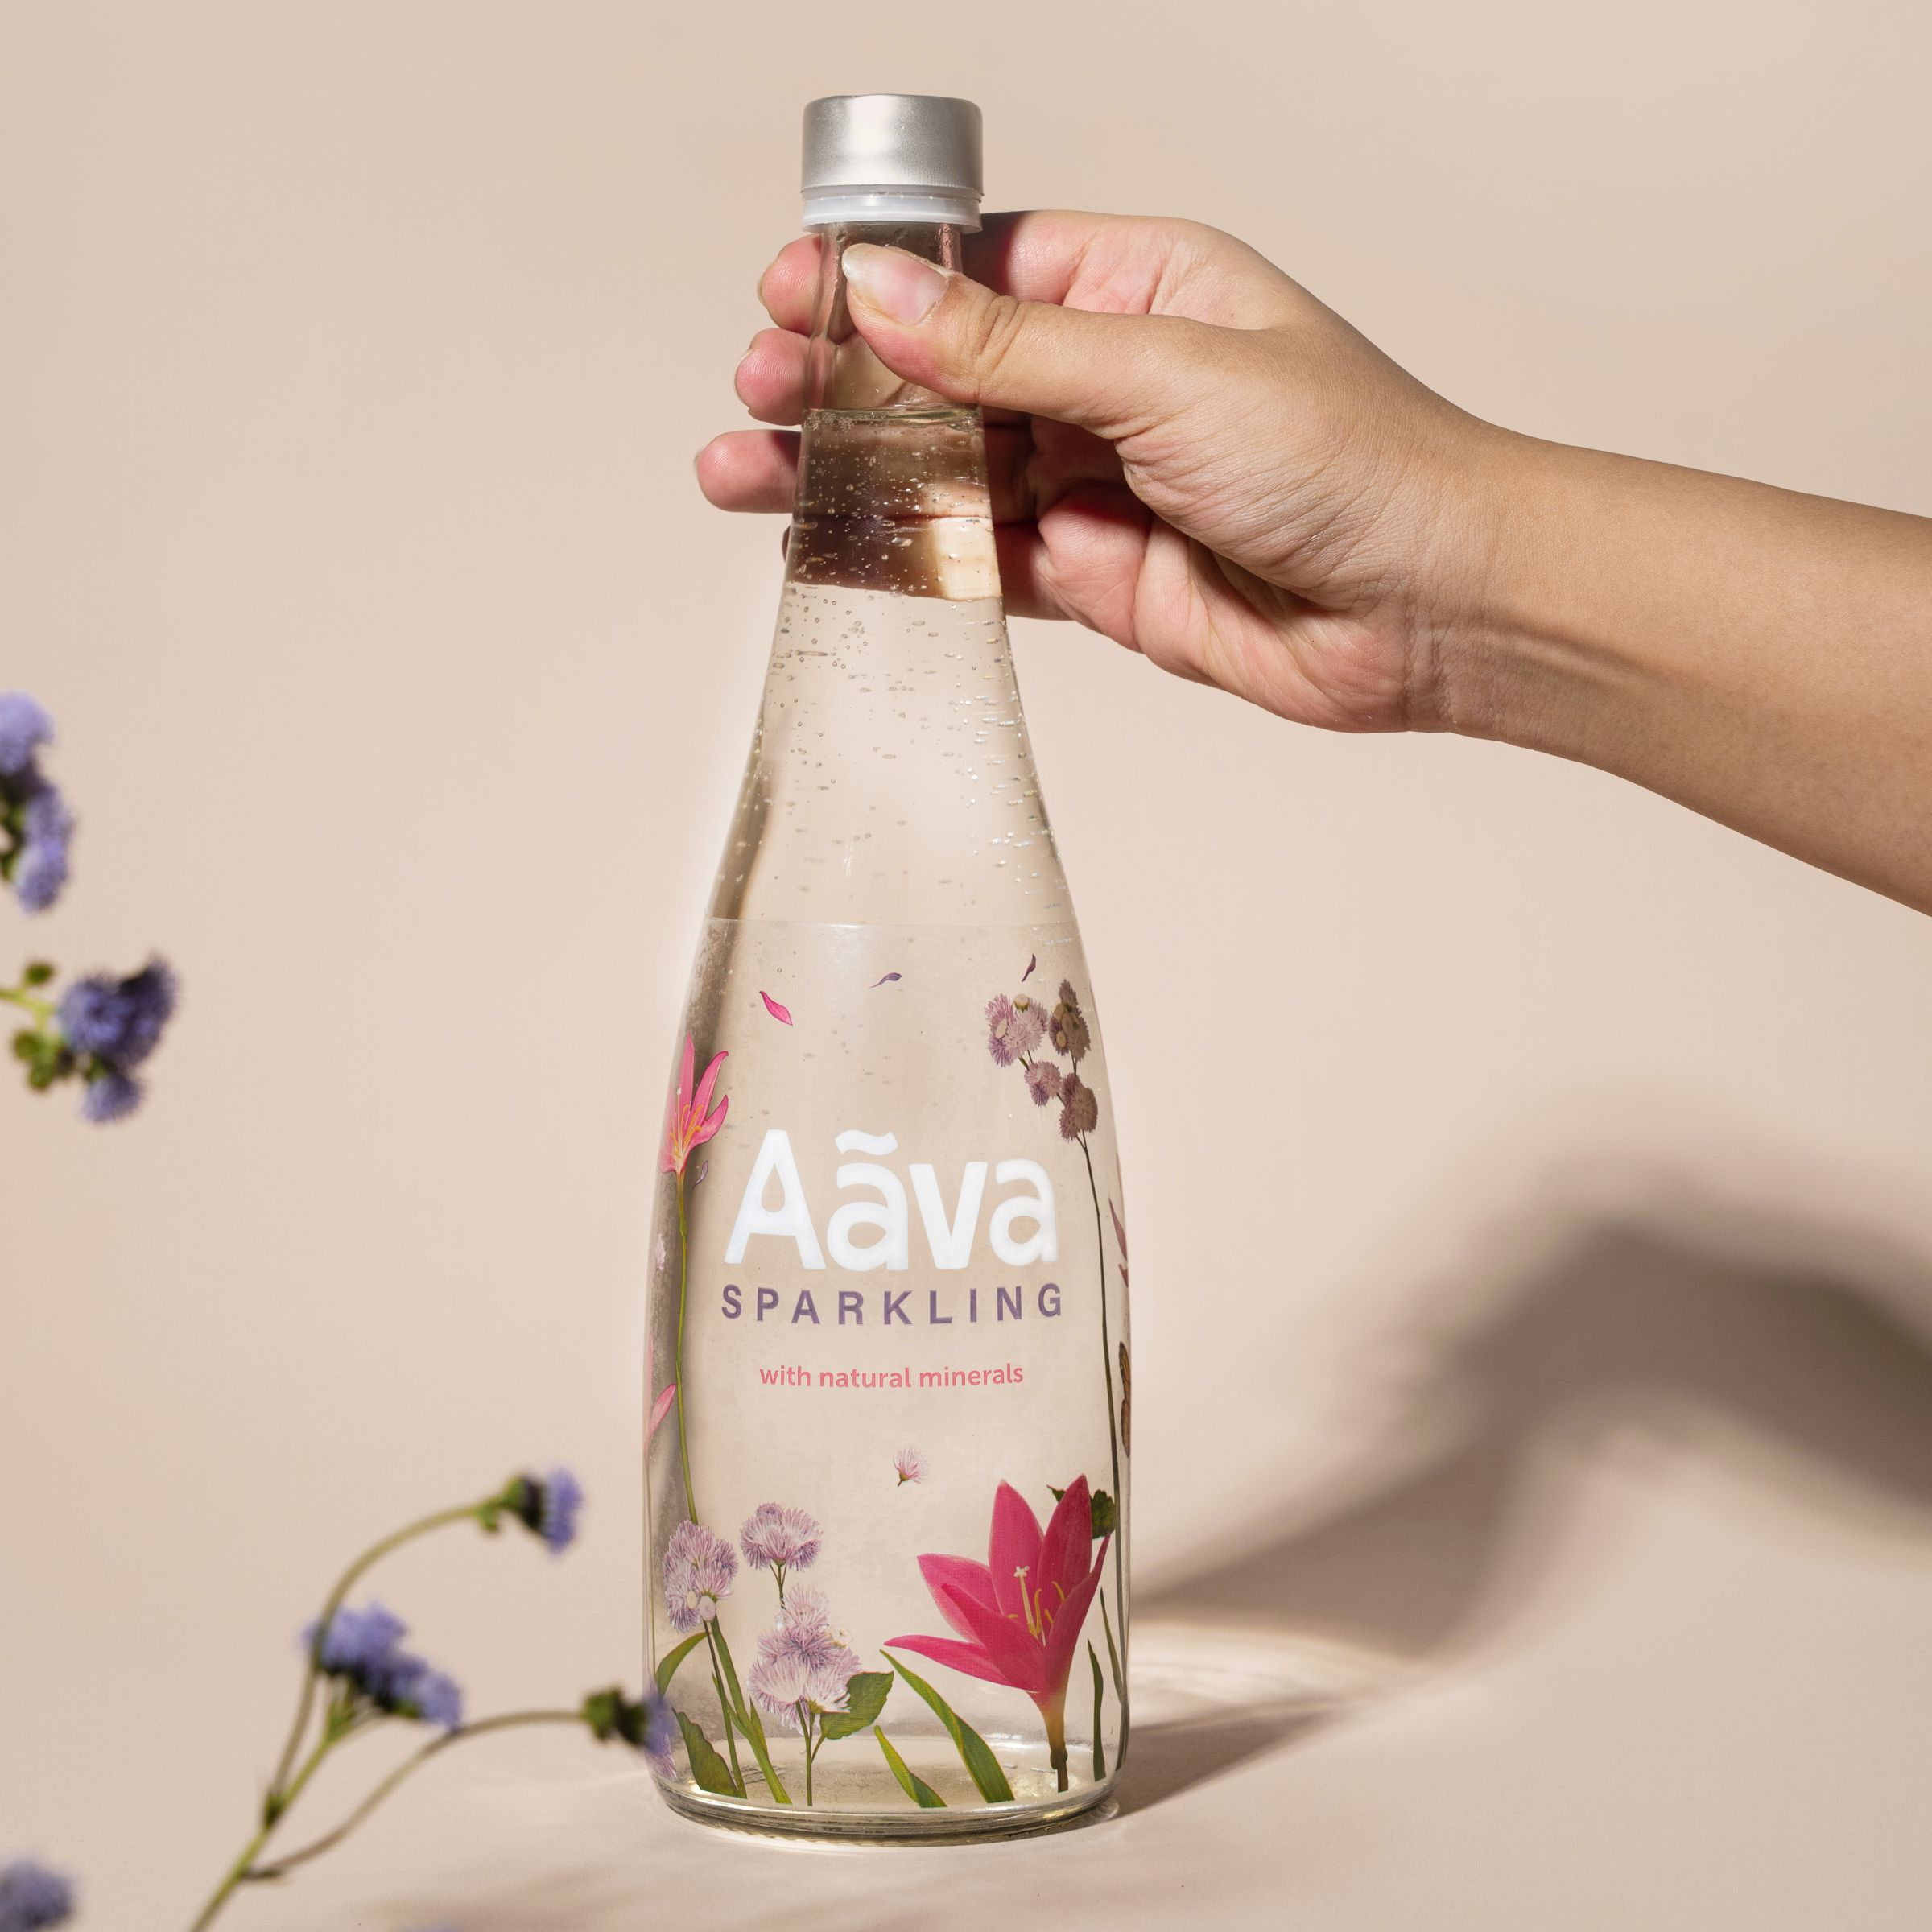glass_bottle: (603, 57, 1175, 1882)
